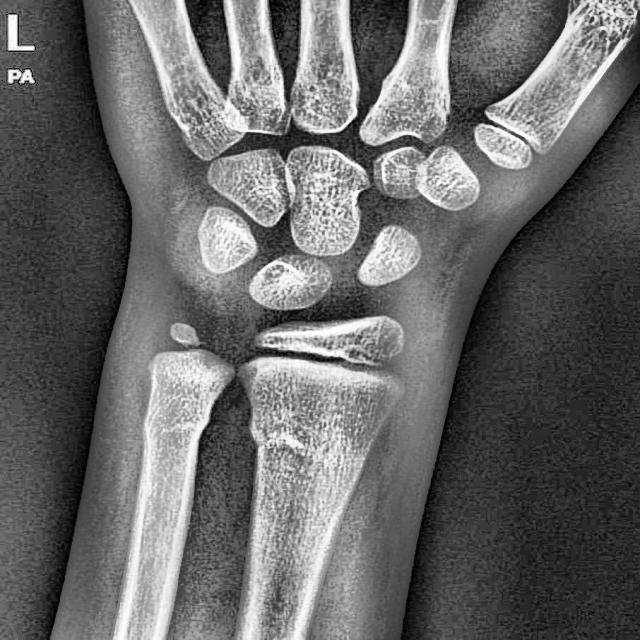fracture: (248, 424, 312, 456), (150, 408, 210, 442)
